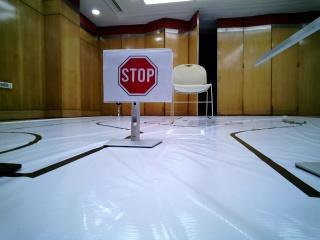stop: (108, 53, 170, 99)
